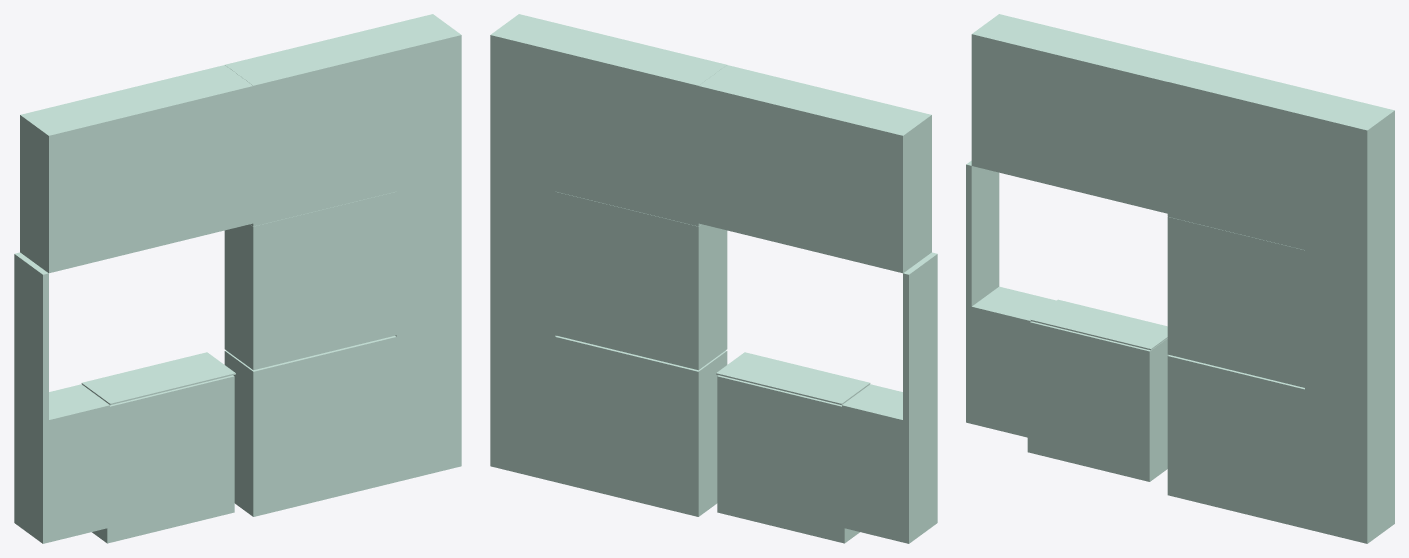
The picture shows the model from 3 angles, left to right: view 1: azimuth 30°, elevation 25°; view 2: azimuth 150°, elevation 25°; view 3: azimuth 330°, elevation 25°; orthographic projection. The views are drawn at different scales.
Parts seen in each view (by area): view 1: Renderer Node; view 2: Renderer Node; view 3: Renderer Node.
Boxes of the visible parts, box(x1,y1,x2,y2) form: Renderer Node: box(14, 14, 461, 543); Renderer Node: box(490, 14, 937, 543); Renderer Node: box(966, 14, 1394, 543).
Bounding box in the file's own units: 1.12 × 1.1 × 0.1328.
